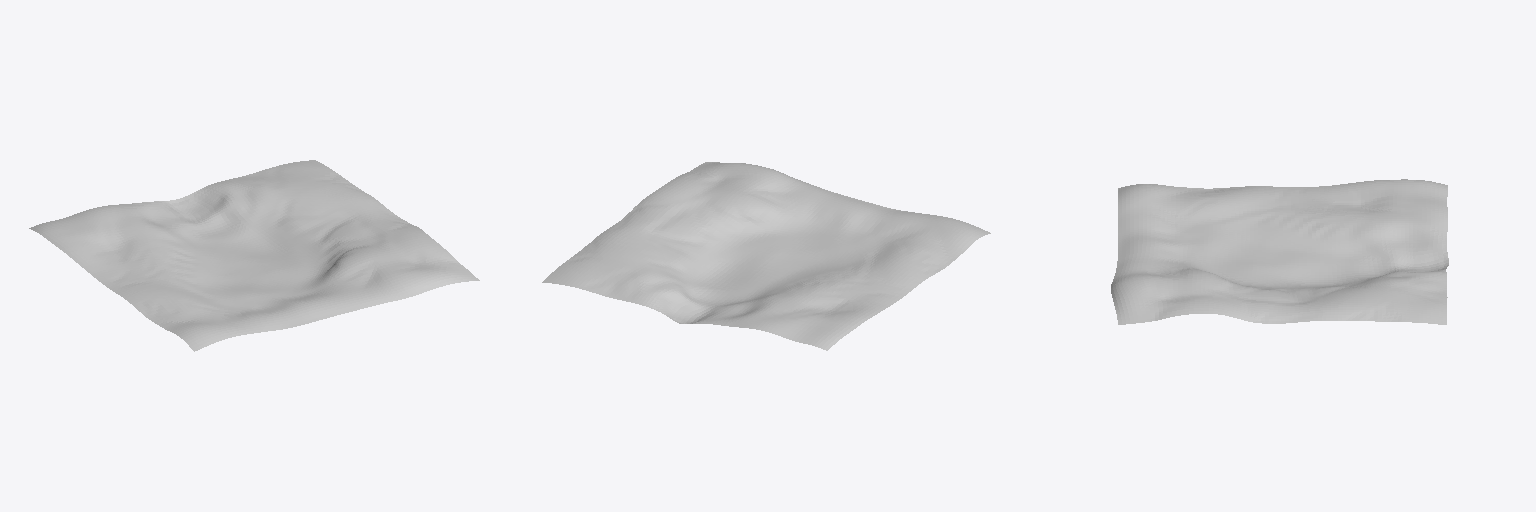
Rendered from ground01.obj.
3 views of the same model, side by side, from view 1: azimuth 30°, elevation 25°; view 2: azimuth 150°, elevation 25°; view 3: azimuth 270°, elevation 25° (orthographic).
Parts seen in each view (by area): view 1: Grid; view 2: Grid; view 3: Grid.
Part boxes in pixels (bbox=[...]): Grid: bbox=[29, 160, 479, 351]; Grid: bbox=[542, 162, 990, 350]; Grid: bbox=[1111, 179, 1448, 324].
Bounding box in the file's own units: 203 × 17.18 × 205.